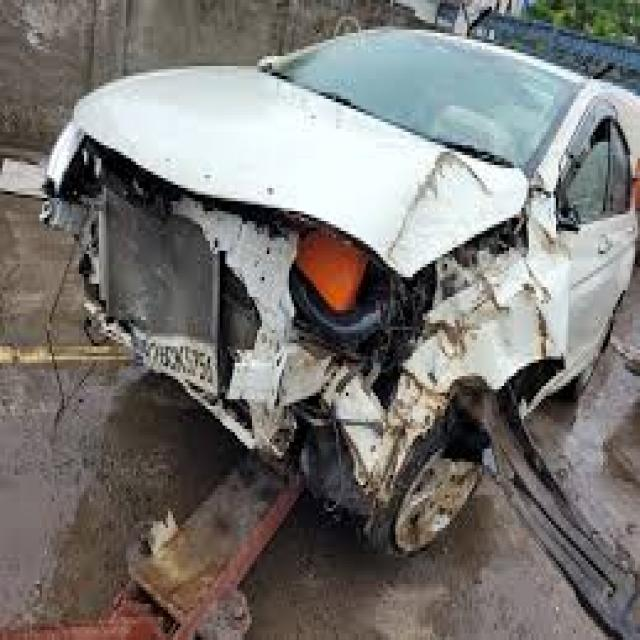severe: (50, 91, 597, 564)
